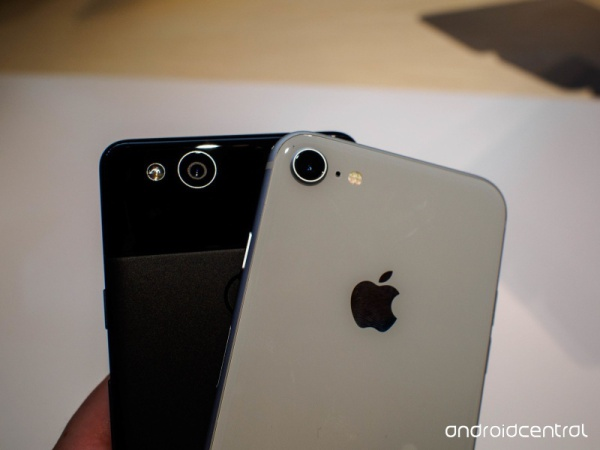apple: (337, 260, 416, 344)
